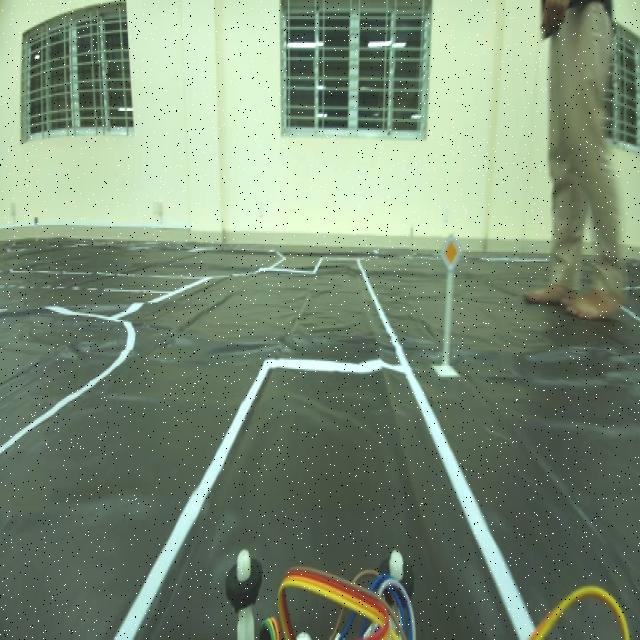priority: (438, 235, 462, 270)
